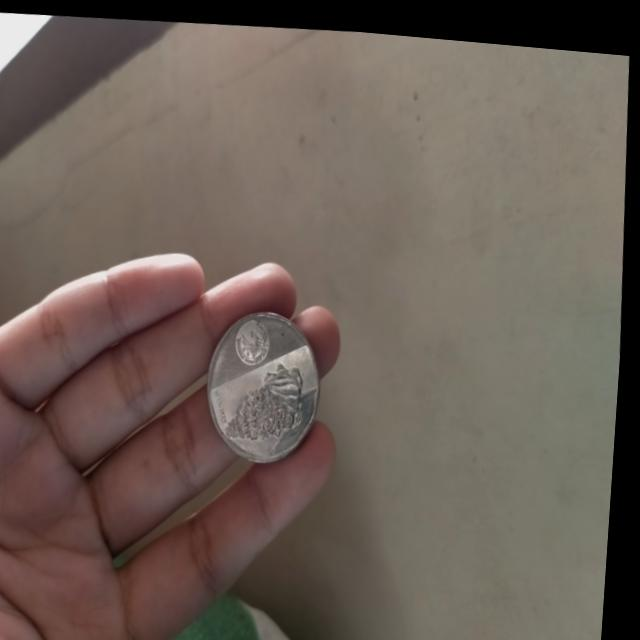10_New_Back: (225, 340, 323, 450)
